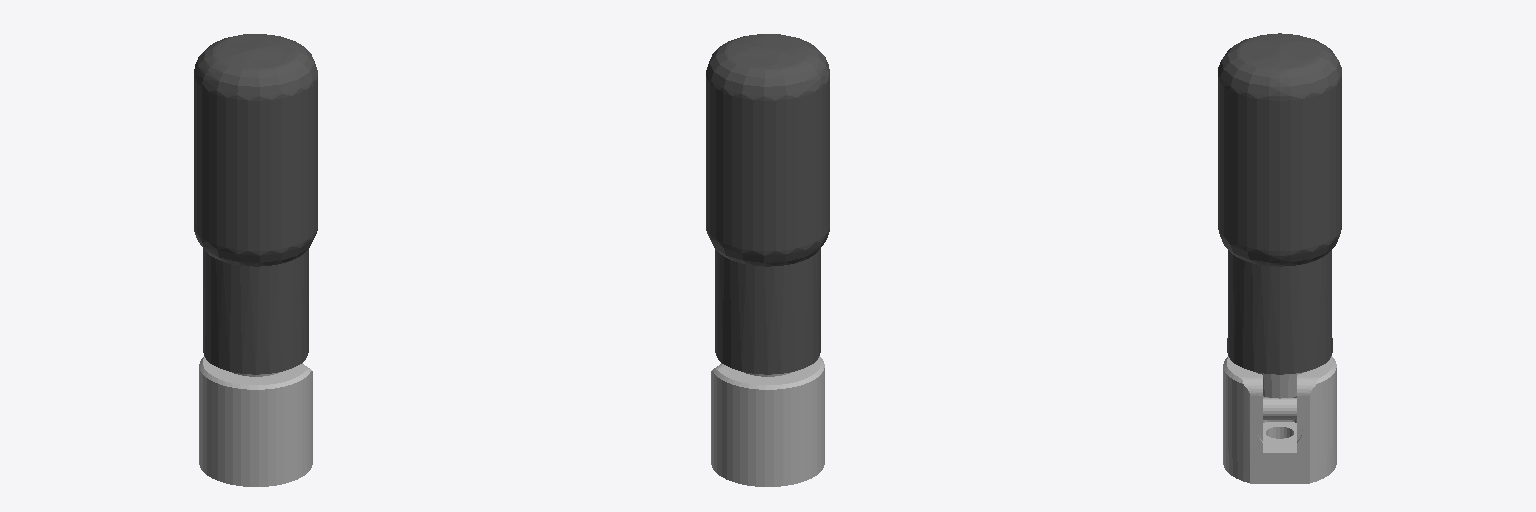
3 views of the same model, side by side, from view 1: azimuth 30°, elevation 25°; view 2: azimuth 150°, elevation 25°; view 3: azimuth 270°, elevation 25° (orthographic).
Visible parts, largest first — view 1: gn_798_5-kt-22_2, gn_798_5-kt-22_1; view 2: gn_798_5-kt-22_2, gn_798_5-kt-22_1; view 3: gn_798_5-kt-22_2, gn_798_5-kt-22_1.
Part boxes in pixels (x1,y1,x2,y2): gn_798_5-kt-22_2: (194, 34, 317, 376); gn_798_5-kt-22_1: (199, 356, 312, 486); gn_798_5-kt-22_2: (706, 34, 829, 376); gn_798_5-kt-22_1: (711, 356, 824, 486); gn_798_5-kt-22_2: (1218, 33, 1341, 398); gn_798_5-kt-22_1: (1223, 356, 1336, 483).
Bounding box in the file's own units: 22 × 80.5 × 21.91.